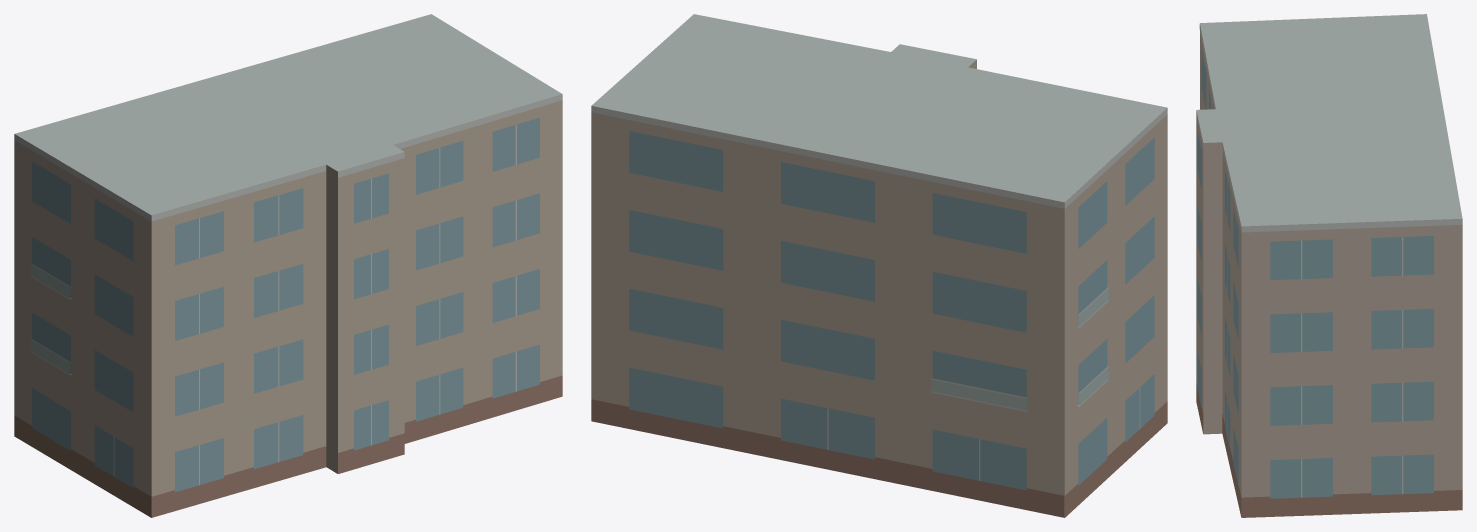
File: survey-upis-32759027.glb
The picture shows the model from 3 angles, left to right: view 1: azimuth 30°, elevation 25°; view 2: azimuth 150°, elevation 25°; view 3: azimuth 270°, elevation 25°; orthographic projection. The views are drawn at different scales.
Visible parts, largest first — view 1: survey-upis-32759027.tmp; view 2: survey-upis-32759027.tmp; view 3: survey-upis-32759027.tmp.
Part boxes in pixels (box(x1,y1,x2,y2)): survey-upis-32759027.tmp: box(14, 14, 562, 517); survey-upis-32759027.tmp: box(591, 14, 1167, 517); survey-upis-32759027.tmp: box(1196, 14, 1462, 517).
Bounding box in the file's own units: 18.46 × 11.8 × 9.78.
